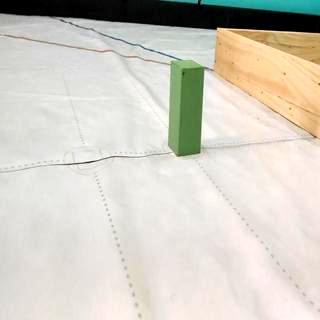greenbox: (167, 58, 204, 156)
